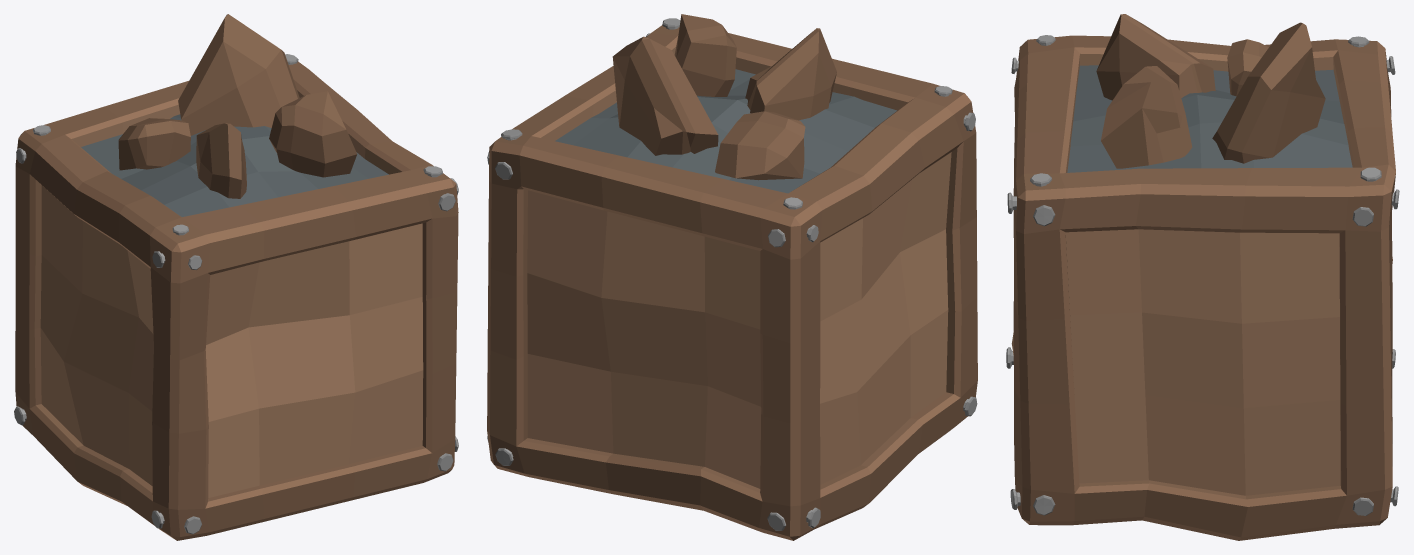
The model's file is Crate_Small_Brown.fbx.
The picture shows the model from 3 angles, left to right: view 1: azimuth 30°, elevation 25°; view 2: azimuth 150°, elevation 25°; view 3: azimuth 270°, elevation 25°; orthographic projection. The views are drawn at different scales.
Visible parts, largest first — view 1: Crate_Small_Brown, Brown; view 2: Crate_Small_Brown, Brown; view 3: Crate_Small_Brown, Brown.
Part boxes in pixels (x1,y1,x2,y2): Crate_Small_Brown: (14, 54, 458, 540); Brown: (118, 14, 357, 198); Crate_Small_Brown: (487, 18, 977, 540); Brown: (612, 14, 836, 180); Crate_Small_Brown: (1006, 35, 1399, 540); Brown: (1096, 14, 1325, 168).
Size of the model in its own units: 71.1 by 92.48 by 71.11.
